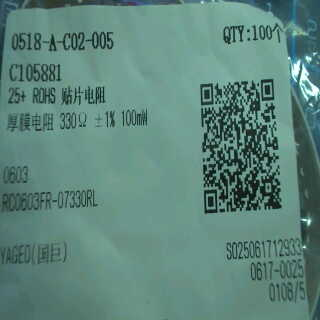330R: (57, 110, 92, 130)
